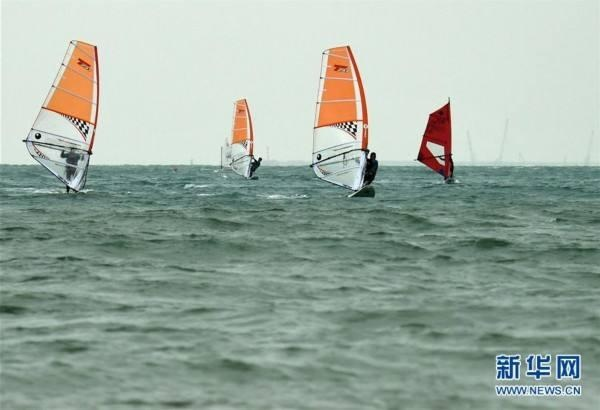fanchuan: (25, 34, 119, 200), (310, 41, 388, 197), (414, 98, 466, 190), (223, 96, 267, 180)
